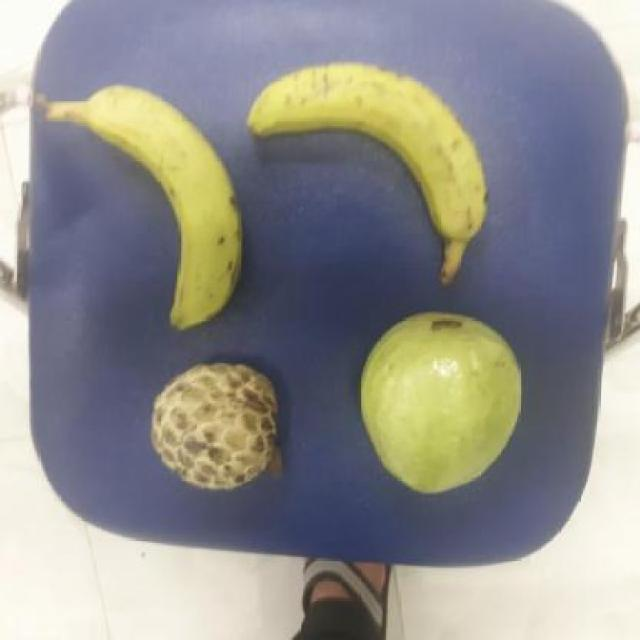banana: (238, 57, 494, 245), (82, 75, 245, 332)
guava: (345, 304, 526, 493)
sugar apple: (150, 353, 281, 493)
